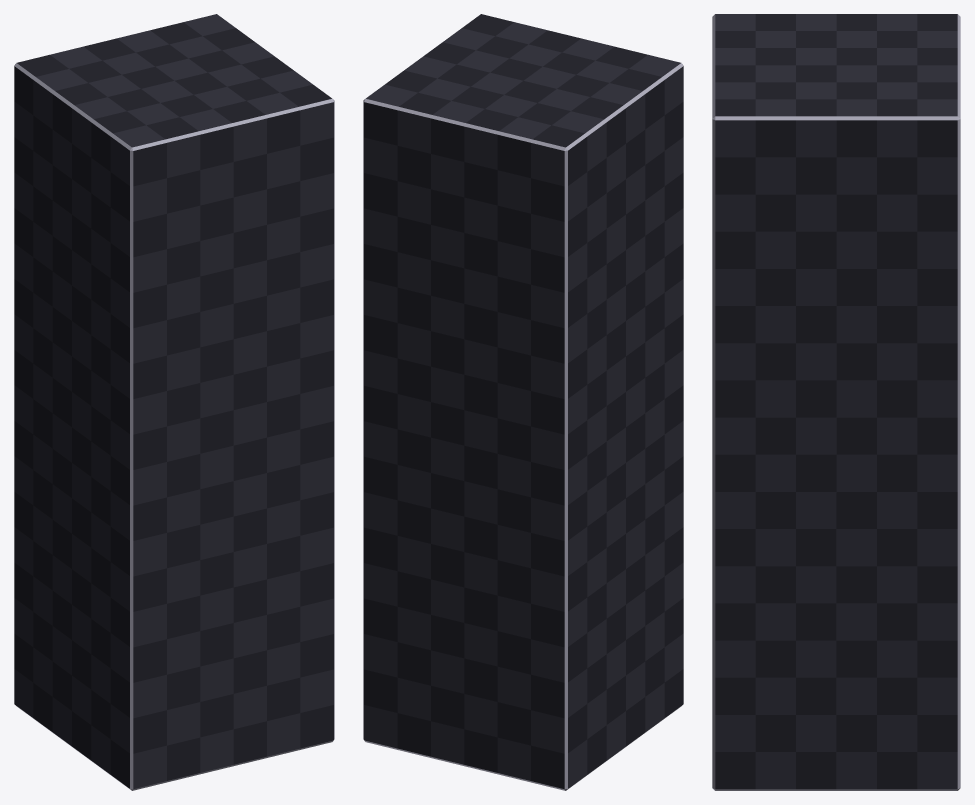
File: PMP-M-Ground-Main-2x2x6-V1.fbx
3 renders of one model, left to right at view 1: azimuth 30°, elevation 25°; view 2: azimuth 150°, elevation 25°; view 3: azimuth 270°, elevation 25°, orthographic. The views are drawn at different scales.
Visible parts, largest first — view 1: MONO_Terrain-A-2x2x6; view 2: MONO_Terrain-A-2x2x6; view 3: MONO_Terrain-A-2x2x6.
Part boxes in pixels (x1,y1,x2,y2): MONO_Terrain-A-2x2x6: (14,14,334,790); MONO_Terrain-A-2x2x6: (363,14,683,790); MONO_Terrain-A-2x2x6: (712,14,960,790).
Size of the model in its own units: 200 by 600 by 200.
